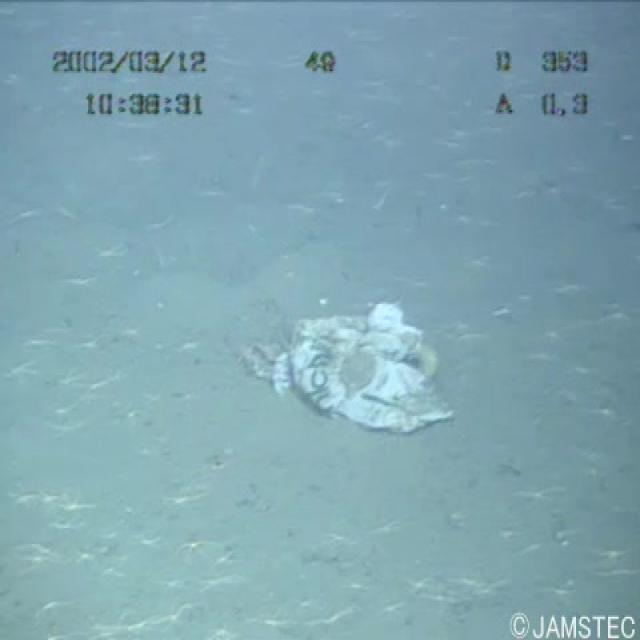plastic: (202, 286, 469, 446)
